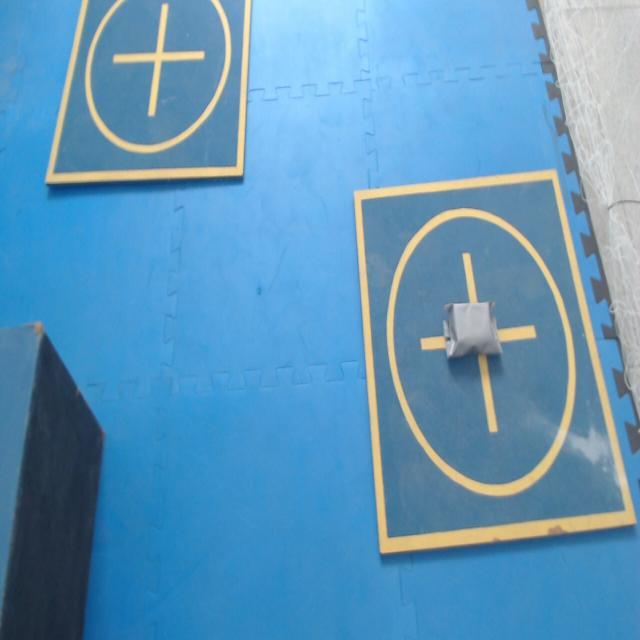lipo: (444, 301, 502, 357)
